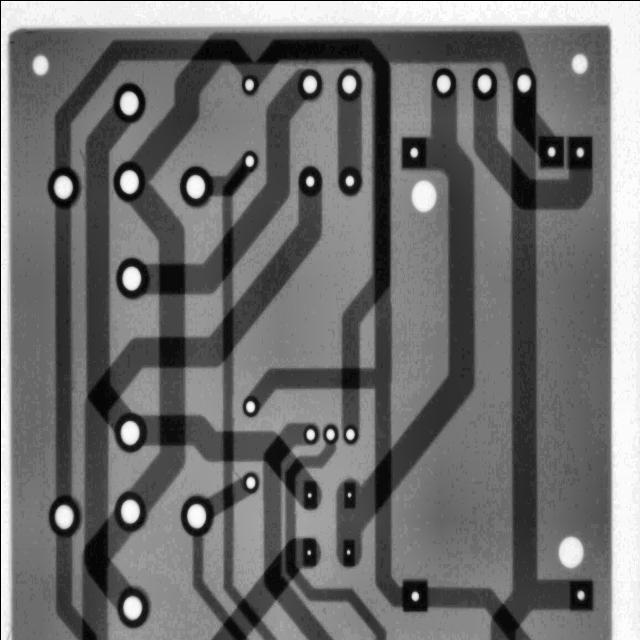Both: (104, 577, 161, 636), (103, 483, 156, 538), (108, 251, 155, 304), (174, 490, 218, 540), (110, 409, 149, 454), (44, 164, 82, 210), (289, 160, 330, 201), (177, 163, 212, 208), (111, 159, 146, 203), (111, 81, 146, 125), (47, 494, 82, 537), (334, 163, 365, 199), (294, 65, 324, 102), (335, 67, 364, 103), (565, 134, 593, 169), (409, 178, 437, 213), (536, 135, 564, 169), (400, 135, 427, 170), (471, 66, 497, 101), (429, 66, 456, 99), (510, 66, 537, 99), (402, 578, 428, 612), (568, 578, 594, 612), (557, 535, 583, 568), (236, 146, 263, 175), (237, 468, 263, 496), (236, 71, 262, 99), (237, 392, 262, 419), (301, 536, 316, 567), (301, 479, 317, 508), (342, 480, 356, 508), (341, 538, 355, 566), (341, 423, 358, 445), (570, 52, 587, 74), (31, 53, 48, 75), (302, 423, 319, 444), (322, 422, 338, 443)
L1: (329, 82, 499, 576), (489, 88, 581, 640), (195, 163, 277, 640), (255, 439, 389, 640), (340, 29, 392, 429), (245, 419, 334, 640), (128, 181, 186, 508), (84, 104, 130, 429), (62, 507, 135, 640), (172, 532, 251, 640)
L2: (2, 138, 342, 606), (241, 35, 402, 610), (127, 65, 356, 327), (435, 82, 604, 238), (130, 380, 324, 511), (207, 531, 317, 640), (36, 533, 98, 640), (426, 585, 534, 640), (54, 208, 71, 494), (499, 80, 558, 157), (203, 156, 255, 204), (203, 475, 253, 516), (337, 93, 361, 173)
